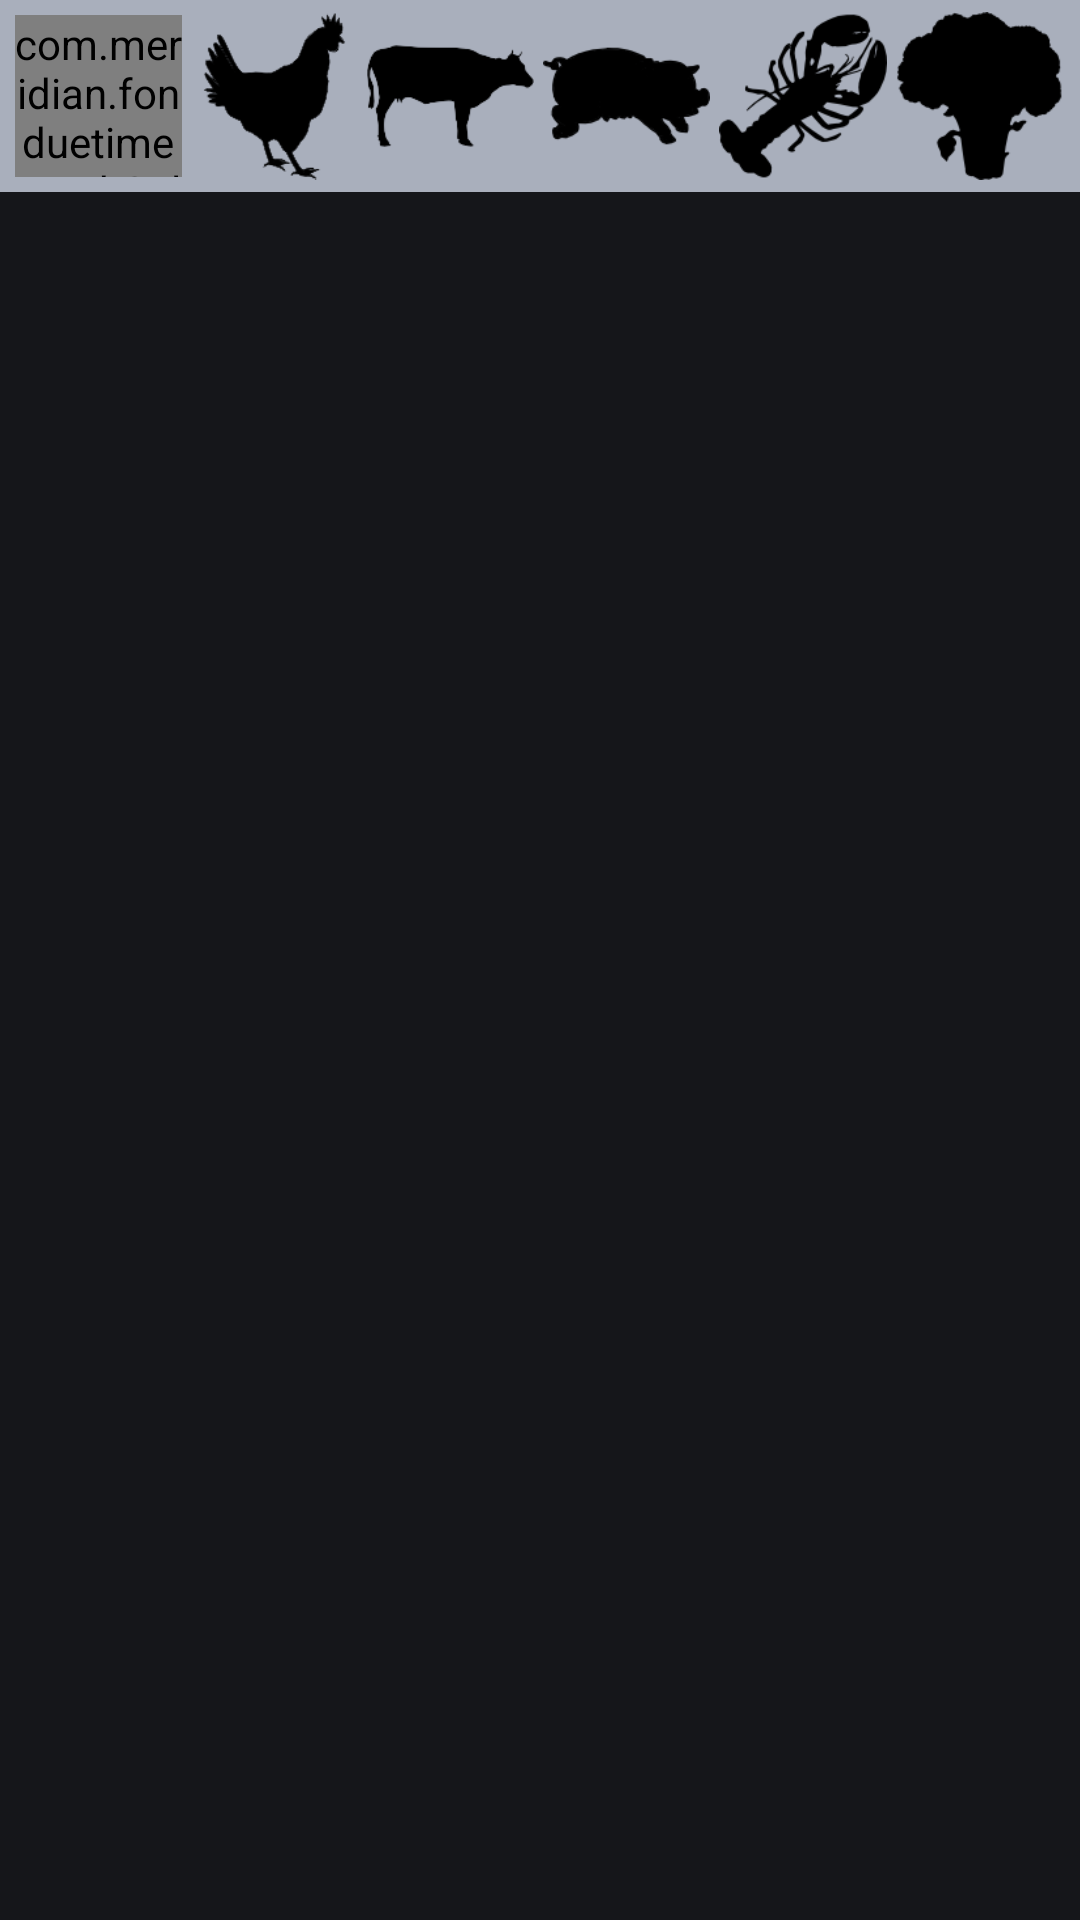

Icons on this 1080 × 1920 Android screen, each with the point to tap as point (x, y):
morsel beef: point (450, 96)
morsel chicken: point (274, 96)
morsel pork: point (626, 96)
morsel seafood: point (803, 96)
morsel vegetable: point (979, 96)
